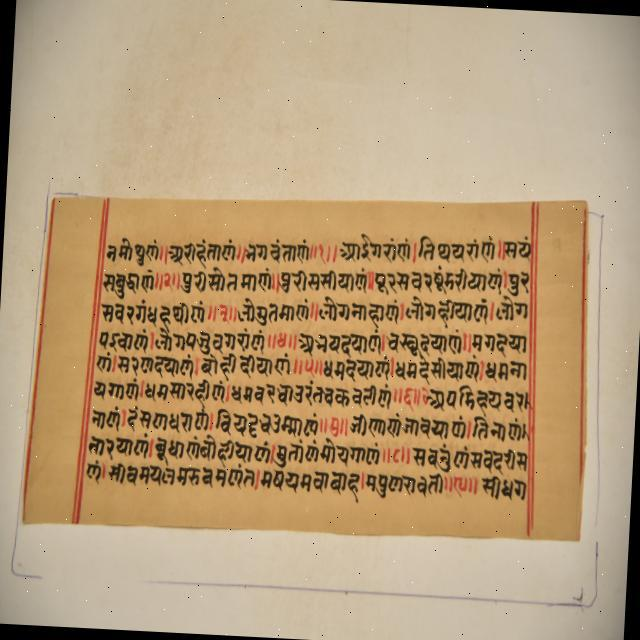text_paragraph: (22, 196, 586, 543)
